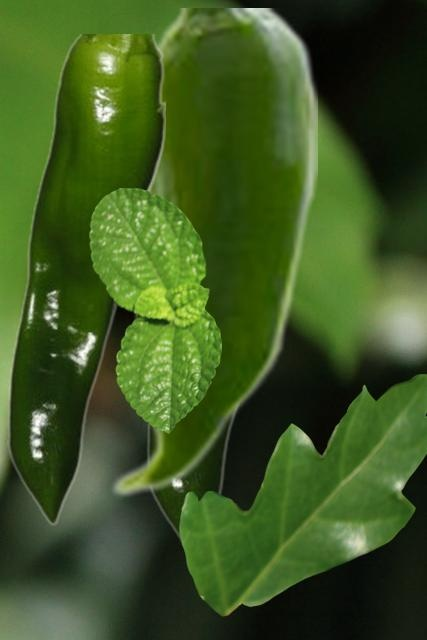green_chili: (108, 8, 316, 498), (6, 34, 164, 524), (145, 415, 239, 551)
